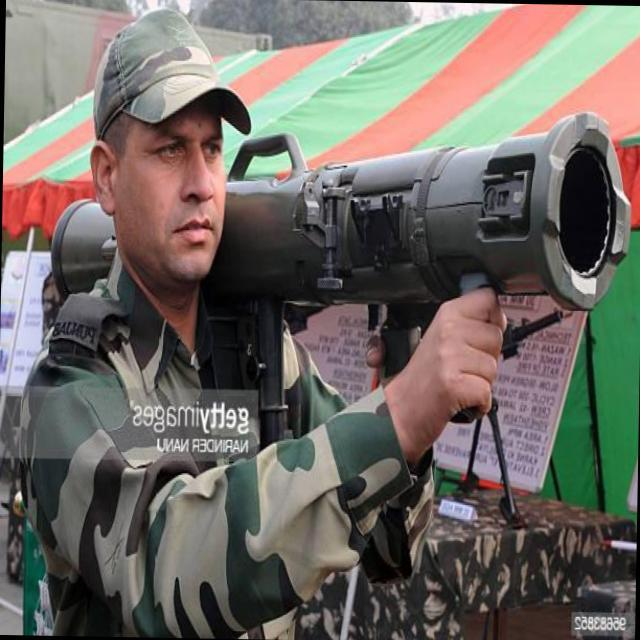rocket: (48, 86, 624, 318)
